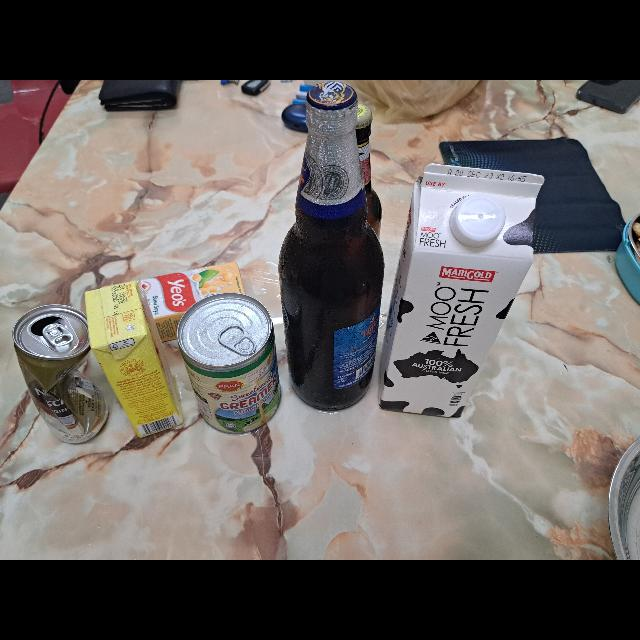aba de lata: (217, 324, 257, 356), (43, 324, 75, 346)
caixinha: (374, 164, 544, 420), (84, 282, 182, 438), (137, 262, 246, 342)
garrafa de vidro: (278, 82, 384, 412), (356, 104, 382, 240)
lata: (177, 292, 283, 433), (13, 304, 109, 442)
tampa plástica: (450, 195, 506, 247)
